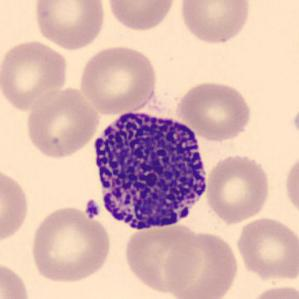Basophil: (87, 102, 216, 238)
Platelets: (84, 198, 101, 220)
RBC: (27, 204, 114, 286), (122, 218, 205, 296), (78, 43, 160, 115), (24, 85, 102, 160), (162, 228, 241, 299), (173, 78, 254, 143), (0, 38, 70, 111), (204, 152, 272, 225), (234, 216, 298, 282), (32, 0, 107, 51), (176, 0, 253, 46), (0, 164, 32, 246), (104, 0, 178, 32), (0, 260, 32, 298), (282, 151, 299, 219), (245, 283, 299, 299), (290, 101, 299, 146)
